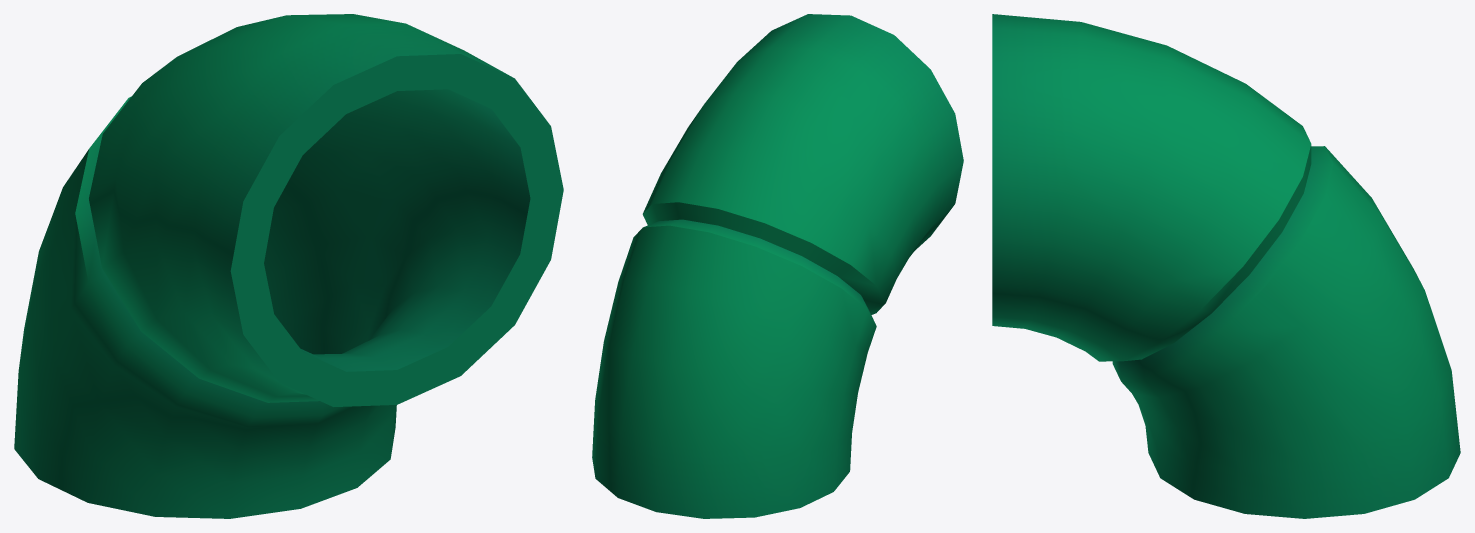
Rendered from pipe_90_B_green.glb.
3 views of the same model, side by side, from view 1: azimuth 30°, elevation 25°; view 2: azimuth 150°, elevation 25°; view 3: azimuth 270°, elevation 25° (orthographic). The views are drawn at different scales.
Visible parts, largest first — view 1: pipe_90_B_green; view 2: pipe_90_B_green; view 3: pipe_90_B_green.
Boxes of the visible parts, bbox=[...] form: pipe_90_B_green: bbox=[14, 14, 563, 518]; pipe_90_B_green: bbox=[592, 14, 963, 518]; pipe_90_B_green: bbox=[992, 14, 1460, 518].
Bounding box in the file's own units: 2 × 3 × 3.
Materials: 1 (1 with a texture image).
